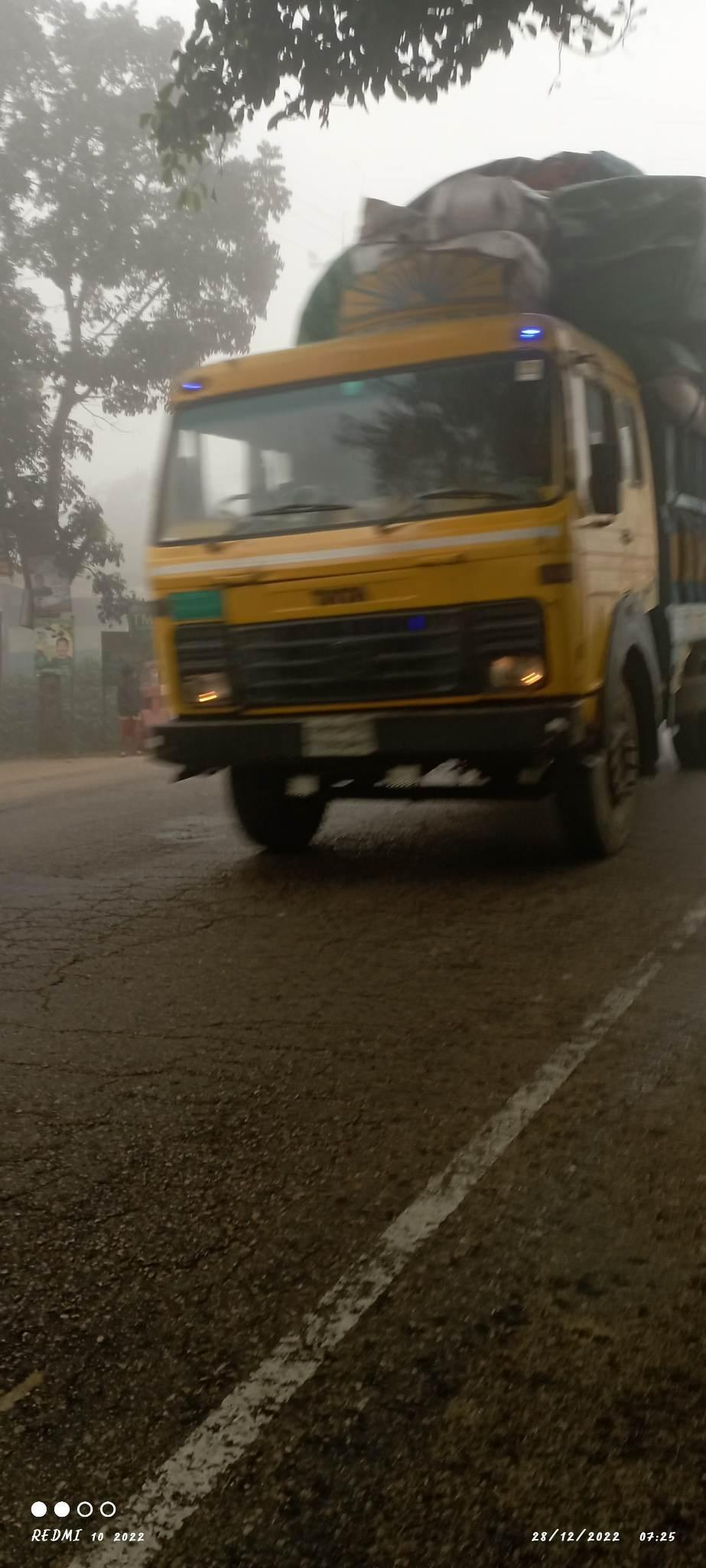Truck: (113, 132, 699, 907)
